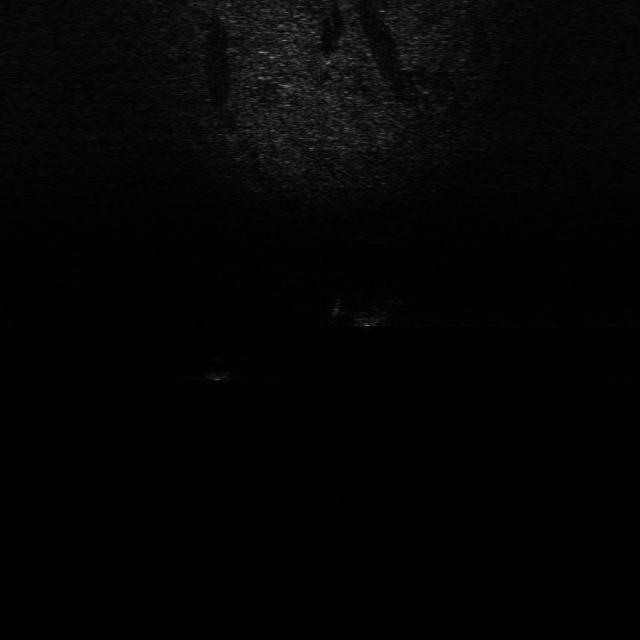ball: (198, 351, 244, 384)
human body: (319, 290, 412, 330)
